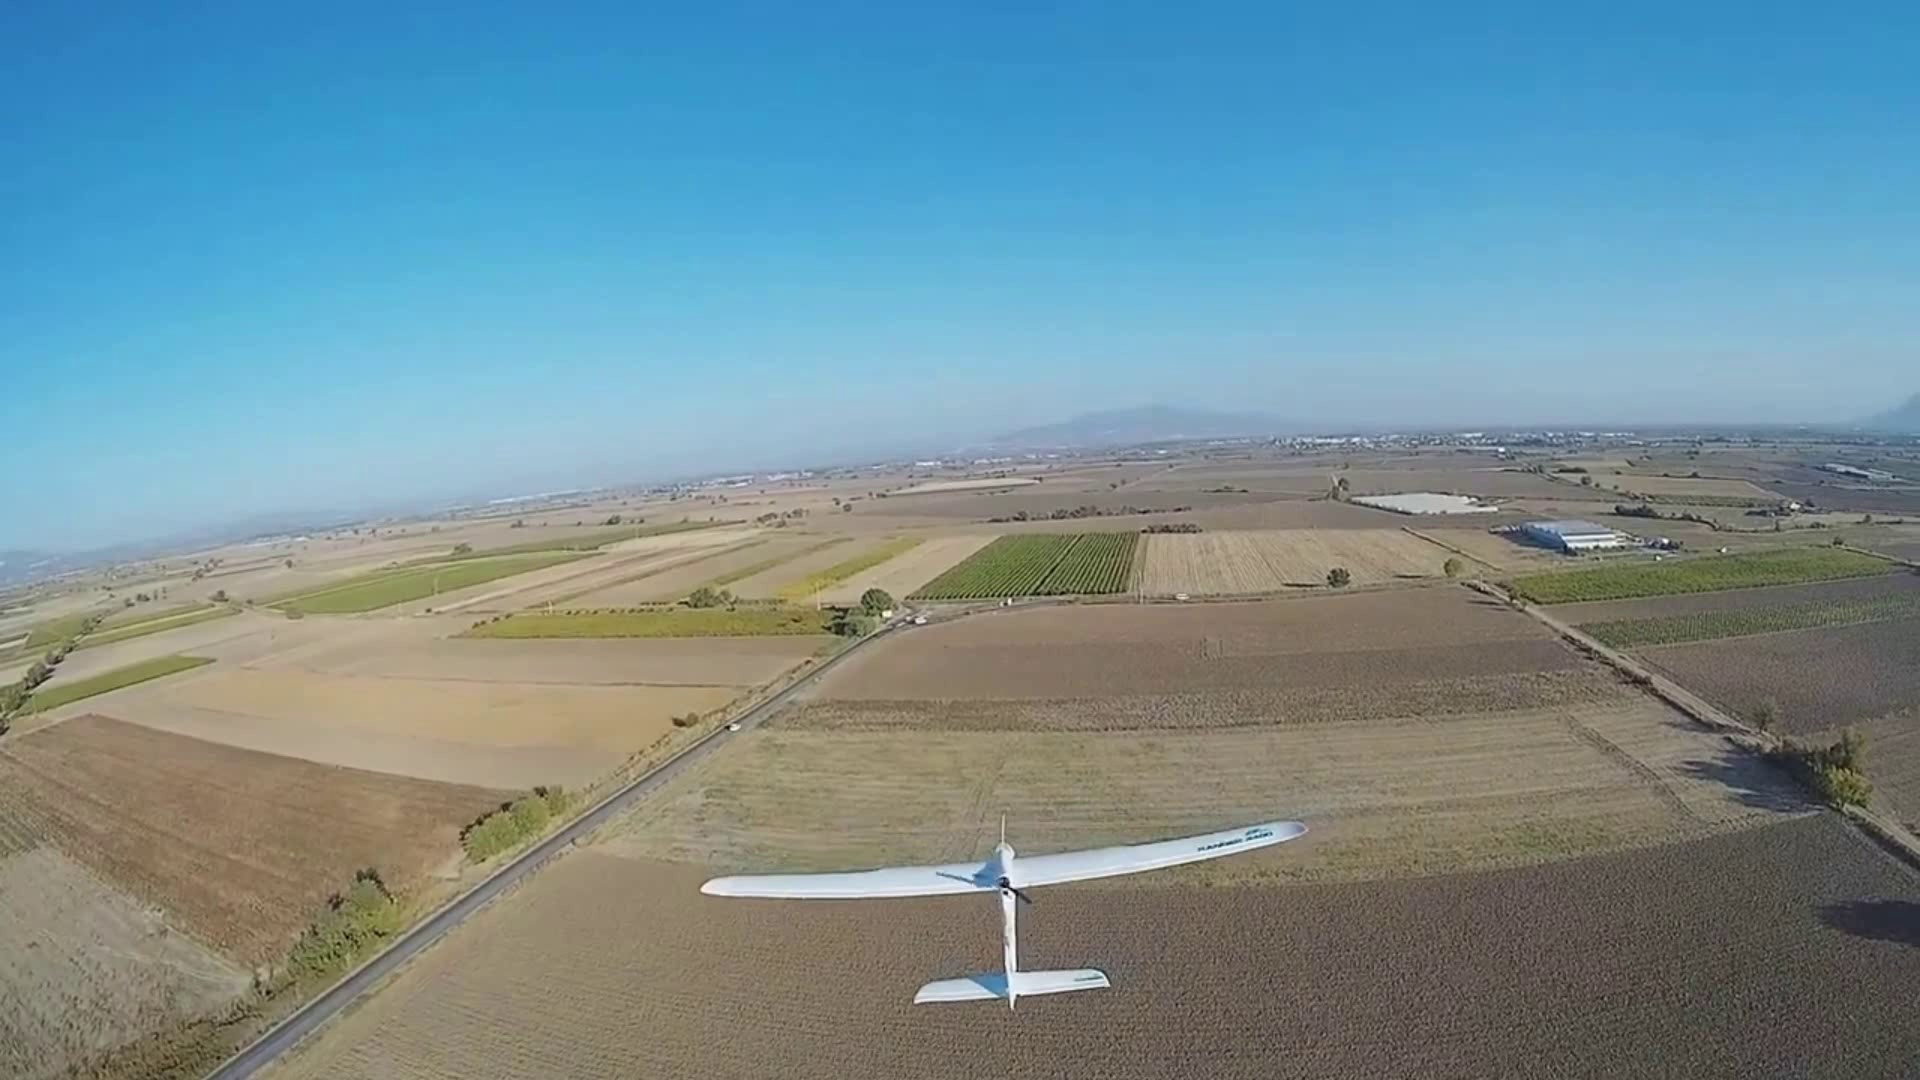airplane: (702, 818, 1309, 1004)
